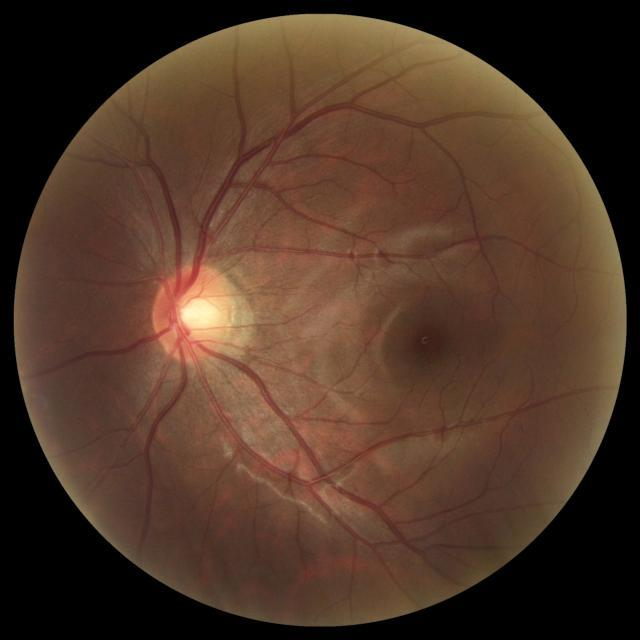OC: (180, 297, 217, 329)
OD: (152, 264, 236, 362)
